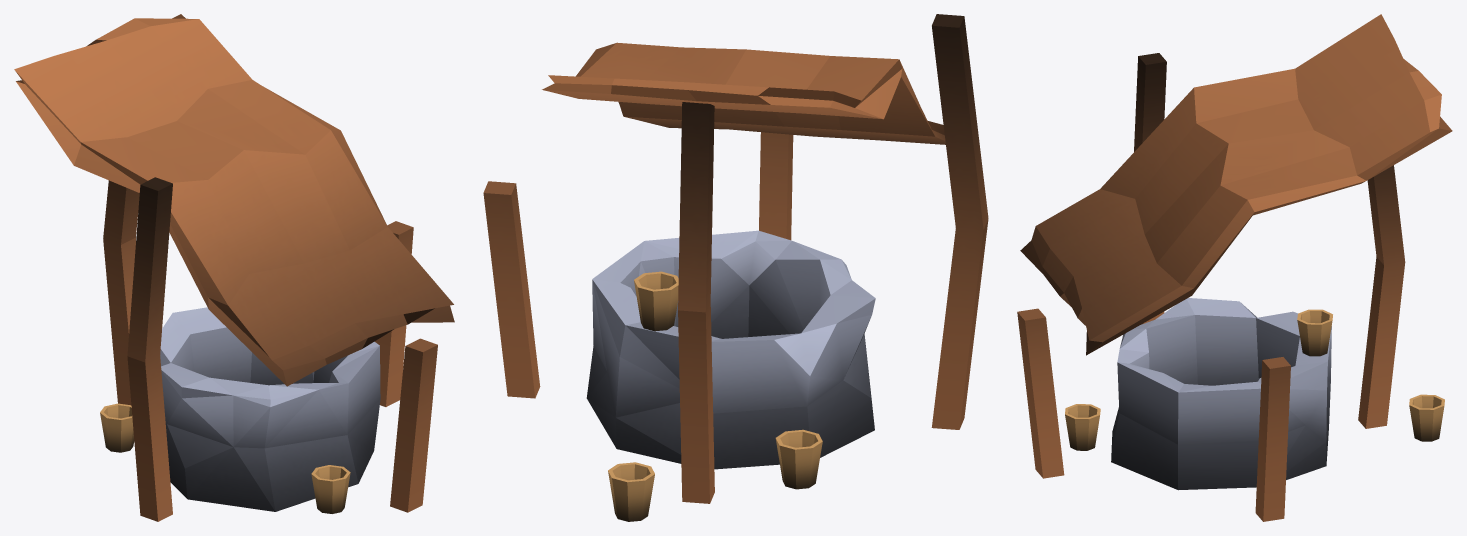
File: well.fbx
3 views of the same model, side by side, from view 1: azimuth 30°, elevation 25°; view 2: azimuth 150°, elevation 25°; view 3: azimuth 270°, elevation 25° (orthographic). The views are drawn at different scales.
Visible parts, largest first — view 1: Cube.015, Cylinder, Cube.010, Cube.007, Cube.006, Cube.011, Cylinder.004, Cylinder.003; view 2: Cylinder, Cube.015, Cube.010, Cube.006, Cube.011, Cube.007, Cylinder.002, Cylinder.003, Cylinder.001; view 3: Cube.015, Cylinder, Cube.006, Cube.007, Cube.011, Cube.010, Cylinder.001, Cylinder.002, Cylinder.004.
Boxes of the visible parts, x1,y1,x2,y2 form: Cube.015: (14, 14, 454, 386); Cylinder: (160, 307, 380, 511); Cube.010: (127, 177, 172, 521); Cube.007: (390, 338, 437, 512); Cube.006: (103, 180, 139, 405); Cube.011: (374, 221, 413, 406); Cylinder.004: (311, 465, 350, 513); Cylinder.003: (100, 403, 134, 452); Cylinder: (586, 230, 875, 469); Cube.015: (542, 42, 945, 144); Cube.010: (931, 14, 988, 429); Cube.006: (678, 102, 714, 503); Cube.011: (483, 181, 540, 398); Cube.007: (759, 132, 793, 240); Cylinder.002: (608, 462, 654, 521); Cylinder.003: (775, 429, 822, 489); Cylinder.001: (634, 271, 678, 331); Cube.015: (1020, 14, 1452, 355); Cylinder: (1111, 298, 1331, 490); Cube.006: (1358, 165, 1405, 428); Cube.007: (1017, 308, 1064, 478); Cube.011: (1255, 357, 1290, 521); Cube.010: (1134, 53, 1166, 324); Cylinder.001: (1297, 309, 1332, 356); Cylinder.002: (1409, 394, 1444, 441); Cylinder.004: (1065, 404, 1100, 450).
Size of the model in its own units: 345 by 353 by 387.
1 material, 1 textured.
